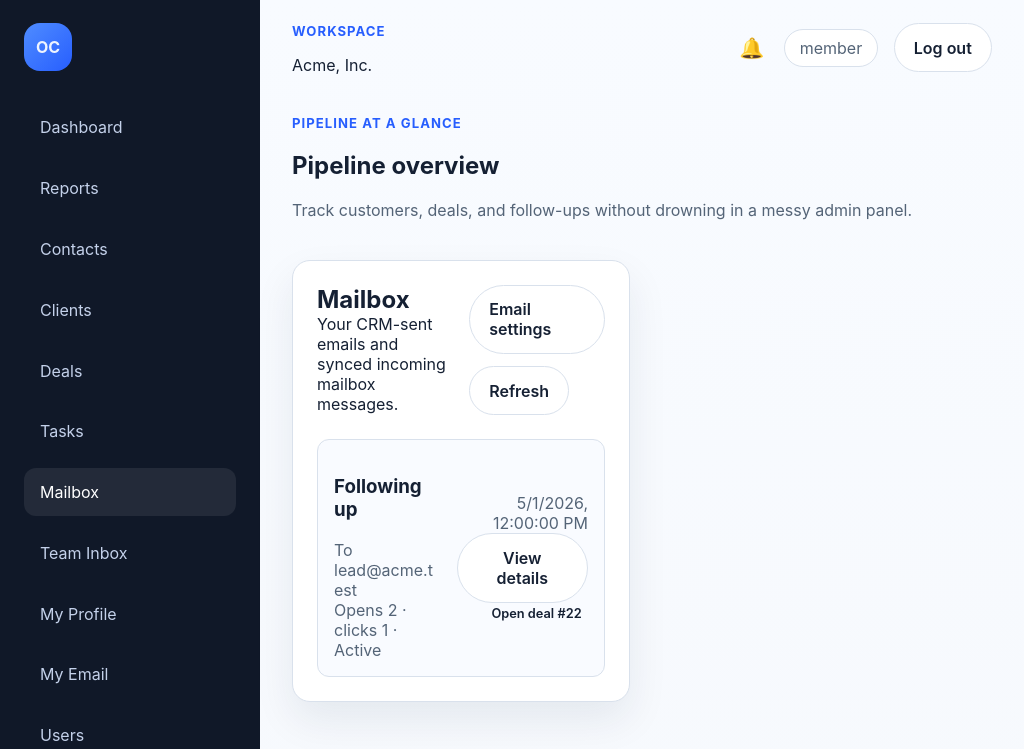
mailbox route › shows the current user sent CRM emails
Check: the heading "Mailbox" is shown, box [317,285,410,314]
Check: the heading "Following up" is shown, box [334,475,422,521]
Click the button "View details".
click(522, 568)  # box [456,533,588,602]
(page scrolled)
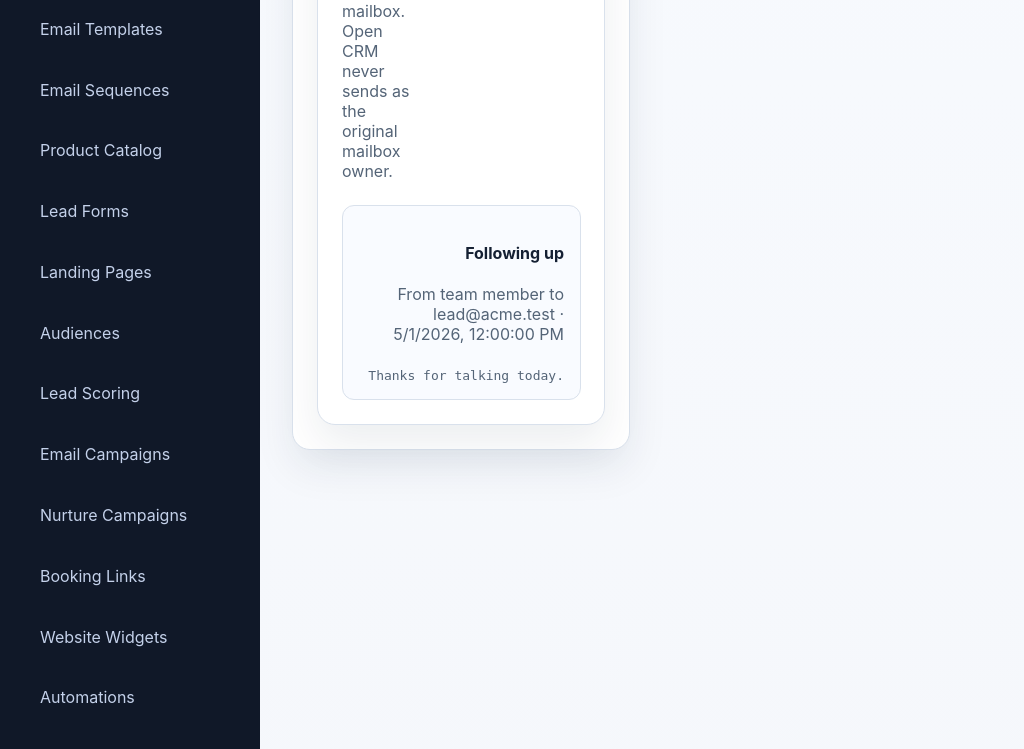
Check: the text "Thanks for talking today." is shown, box [359,368,564,383]
